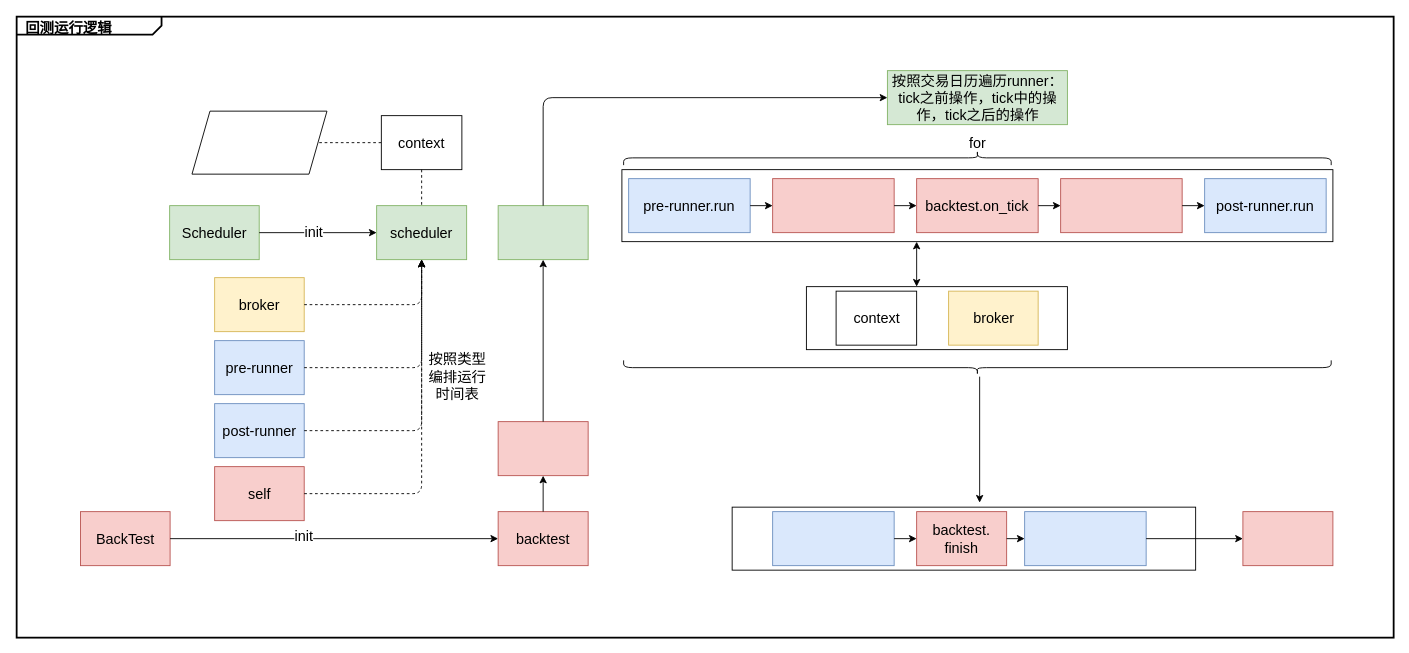
Some shapes in this 1409 by 653 pixel diagram are drawn without their labels. Each missing label, with the centre of its shape:
backtest. after_on_tick: (x=1121, y=205)
backtest. before_on_tick: (x=833, y=205)
backtest.start: (x=542, y=448)
exit(): (x=1287, y=538)
post-runner. finish: (x=1085, y=538)
pre-runner. finish: (x=833, y=538)
scheduler.run: (x=542, y=232)
数据，当前时间，交易日历，broker，backtest......: (x=259, y=142)
